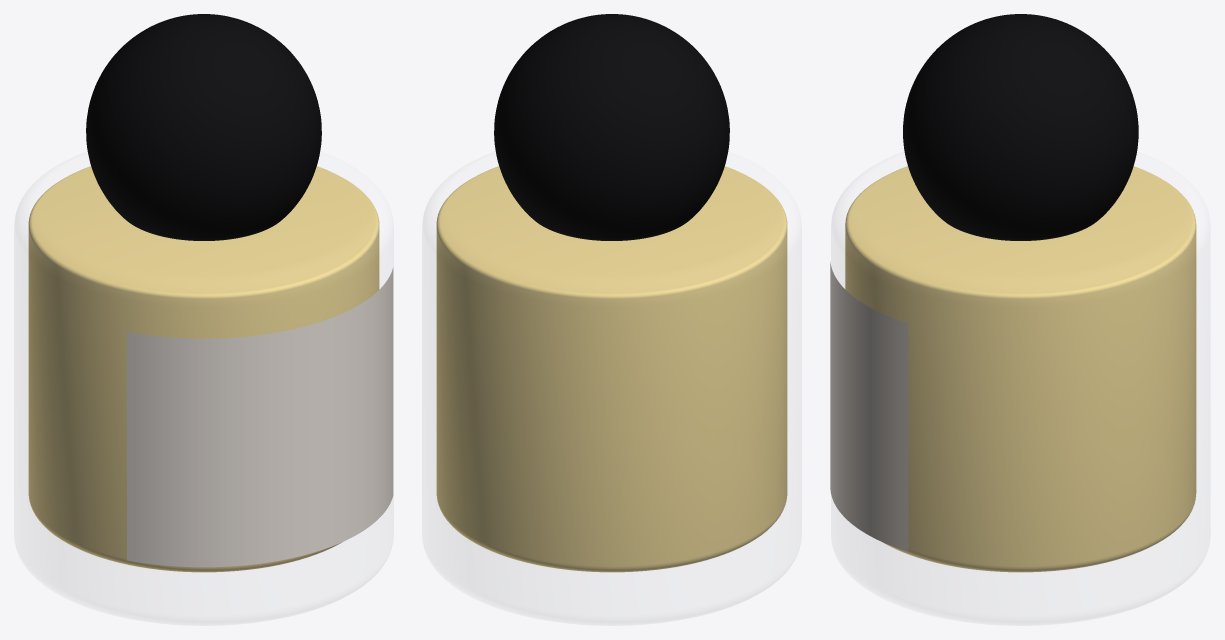
Rendered from baignoire_desktop.glb.
3 renders of one model, left to right at view 1: azimuth 30°, elevation 25°; view 2: azimuth 150°, elevation 25°; view 3: azimuth 270°, elevation 25°, orthographic.
Visible parts, largest first — view 1: xelle_fragrance_liquid, xelle_front_label, xelle_spherical_black_cap; view 2: xelle_fragrance_liquid, xelle_spherical_black_cap; view 3: xelle_fragrance_liquid, xelle_spherical_black_cap, xelle_front_label.
Part boxes in pixels (left/top/right/bottom): xelle_fragrance_liquid: left=28, top=166, right=379, bottom=572; xelle_front_label: left=127, top=268, right=393, bottom=567; xelle_spherical_black_cap: left=86, top=14, right=321, bottom=240; xelle_fragrance_liquid: left=436, top=166, right=787, bottom=572; xelle_spherical_black_cap: left=494, top=14, right=729, bottom=240; xelle_fragrance_liquid: left=845, top=166, right=1196, bottom=572; xelle_spherical_black_cap: left=903, top=14, right=1138, bottom=240; xelle_front_label: left=830, top=262, right=908, bottom=551.
Size of the model in its own units: 2.35 by 3.6 by 2.35.
Materials: 5 (1 with a texture image).
